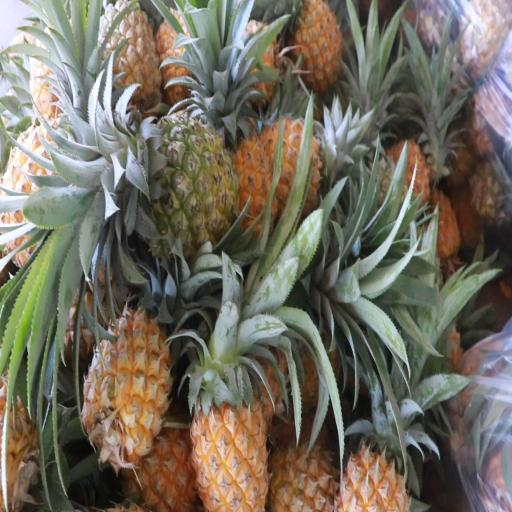Pineapple - v8 v1: (190, 328, 271, 512), (88, 312, 173, 486), (0, 124, 95, 278), (282, 0, 350, 103), (96, 0, 163, 104)
